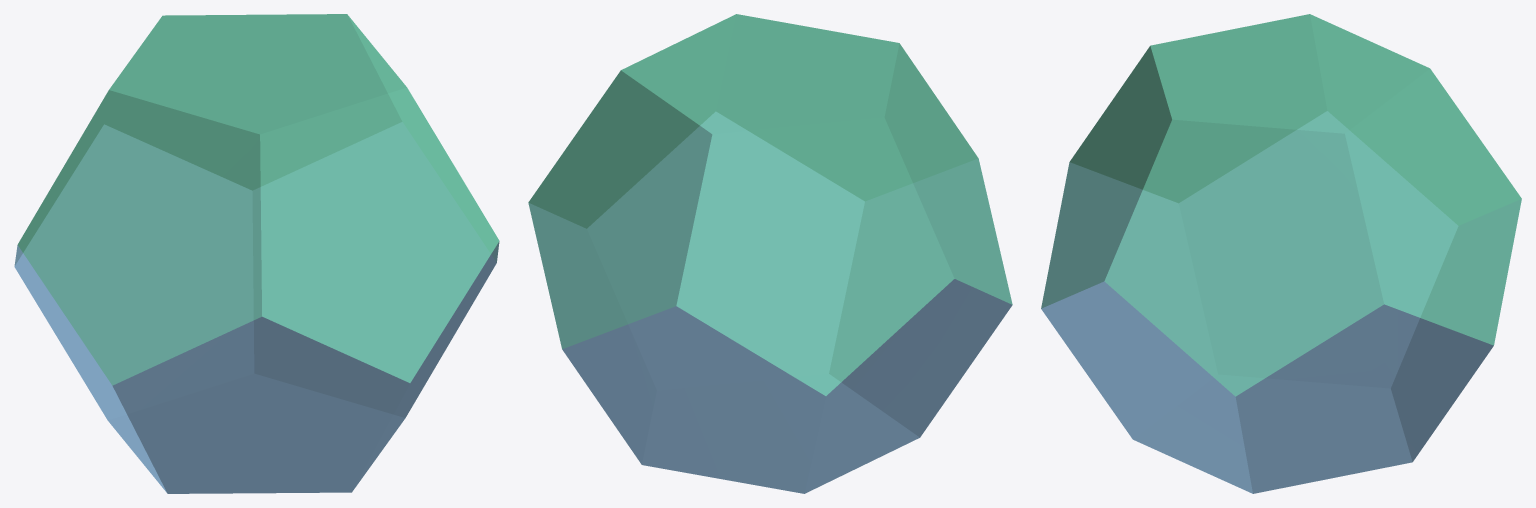
3 views of the same model, side by side, from view 1: azimuth 30°, elevation 25°; view 2: azimuth 150°, elevation 25°; view 3: azimuth 270°, elevation 25° (orthographic). The views are drawn at different scales.
Bounding box in the file's own units: 9.55 × 7.86 × 9.64.
